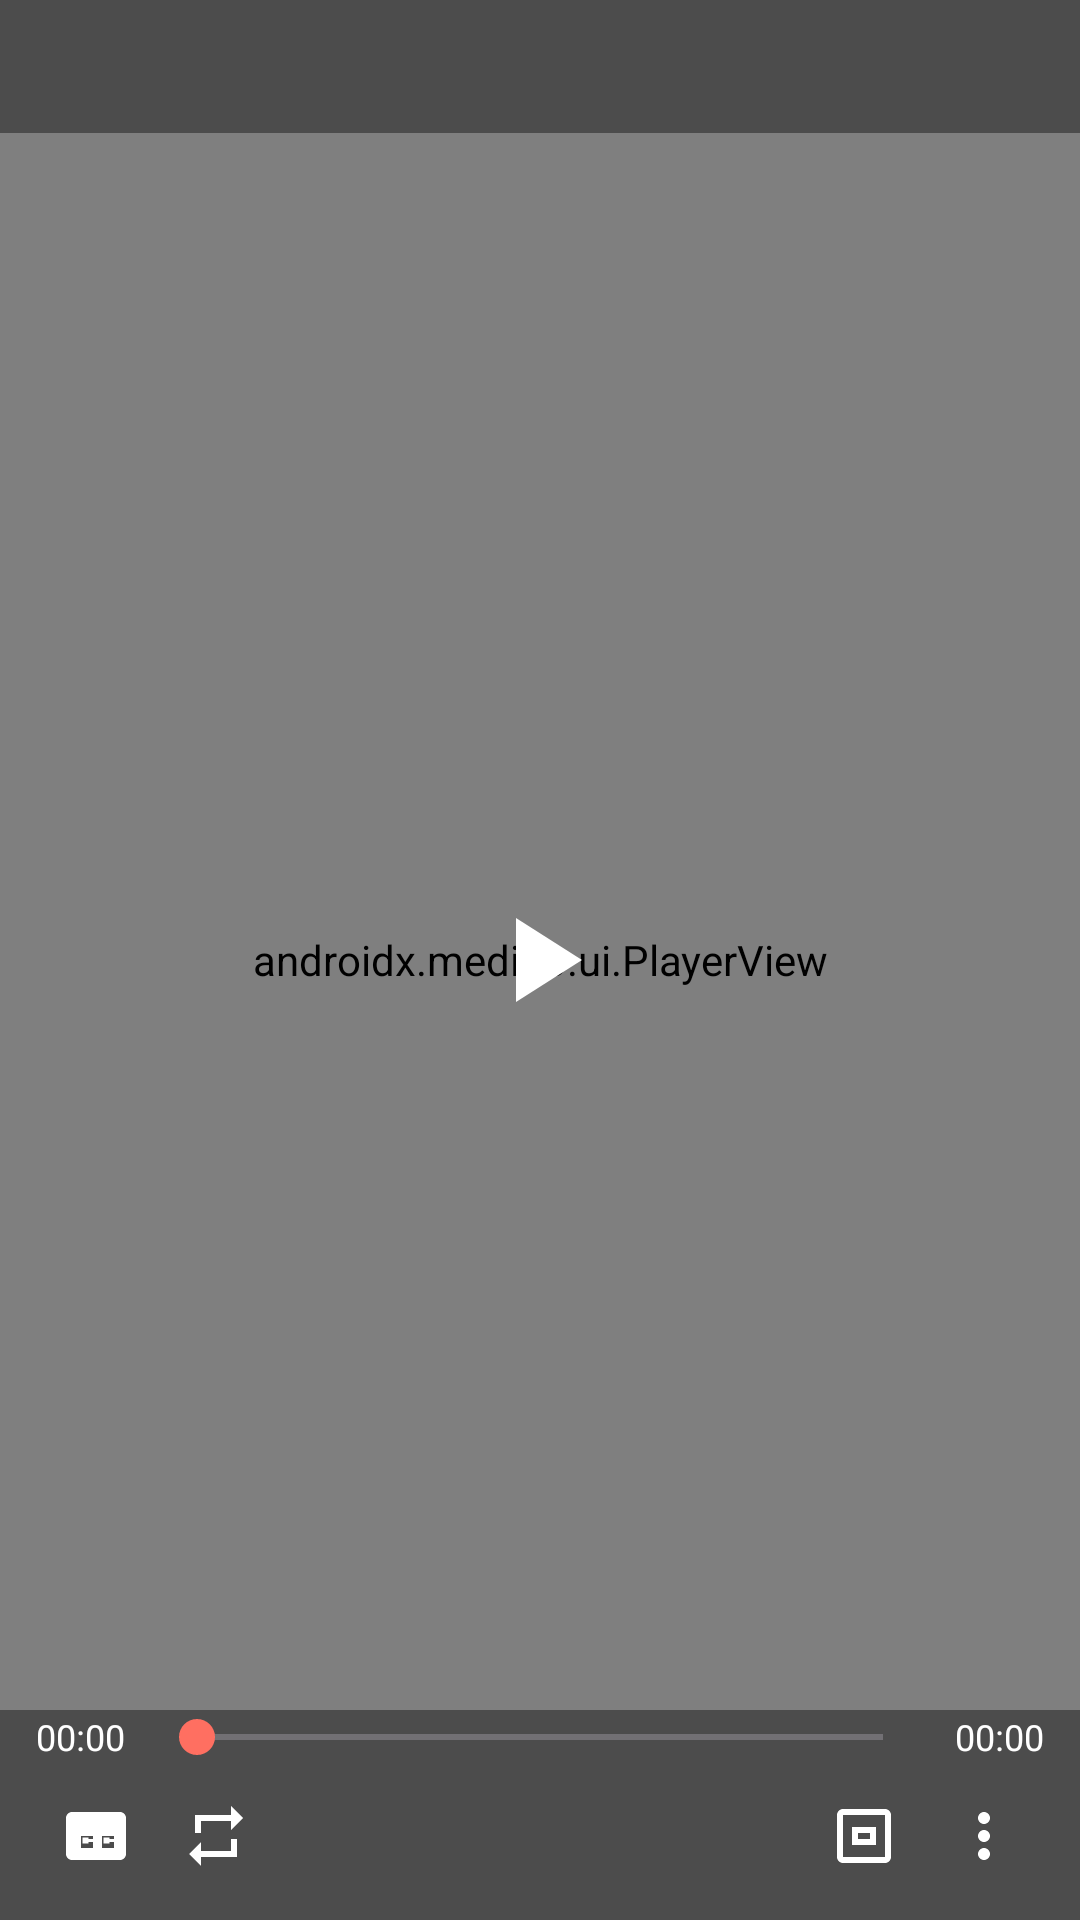

Icon bounding boxes for this 1080w x 1920h phone screenshot, format box(x1, y1, x2, y2):
Aspect ratio: box(837, 1809, 891, 1863)
More options: box(978, 1812, 990, 1860)
Repeat: box(189, 1806, 243, 1866)
Subtitles: box(66, 1812, 126, 1860)
